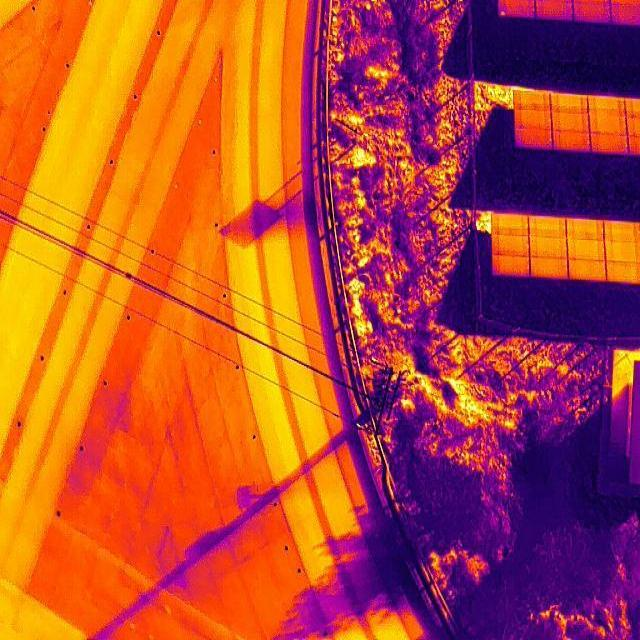Cell: (498, 0, 536, 18)
No-Anomaly: (491, 256, 529, 279), (551, 92, 589, 114), (568, 260, 606, 281), (574, 0, 610, 22), (552, 132, 591, 152), (591, 134, 630, 154), (529, 259, 568, 279), (589, 115, 628, 135), (492, 215, 529, 236), (567, 220, 604, 241), (513, 89, 550, 110), (491, 236, 529, 256), (529, 238, 567, 258), (536, 0, 574, 20), (589, 95, 627, 115), (529, 218, 566, 238), (567, 239, 604, 259), (604, 242, 637, 264), (515, 110, 551, 130), (515, 130, 552, 149), (551, 114, 590, 132), (605, 262, 638, 282), (604, 222, 636, 242), (611, 0, 640, 22)
